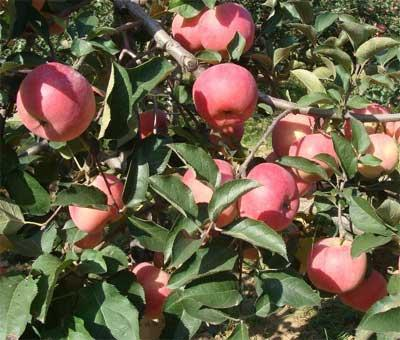apple: (15, 60, 97, 142), (191, 64, 258, 132), (238, 163, 299, 228), (306, 237, 366, 295), (198, 4, 253, 57)
